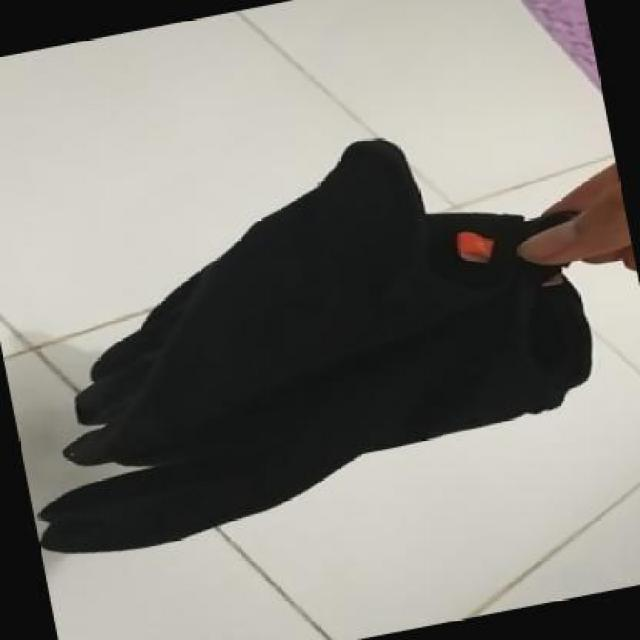gloved_hand: (0, 95, 638, 575)
